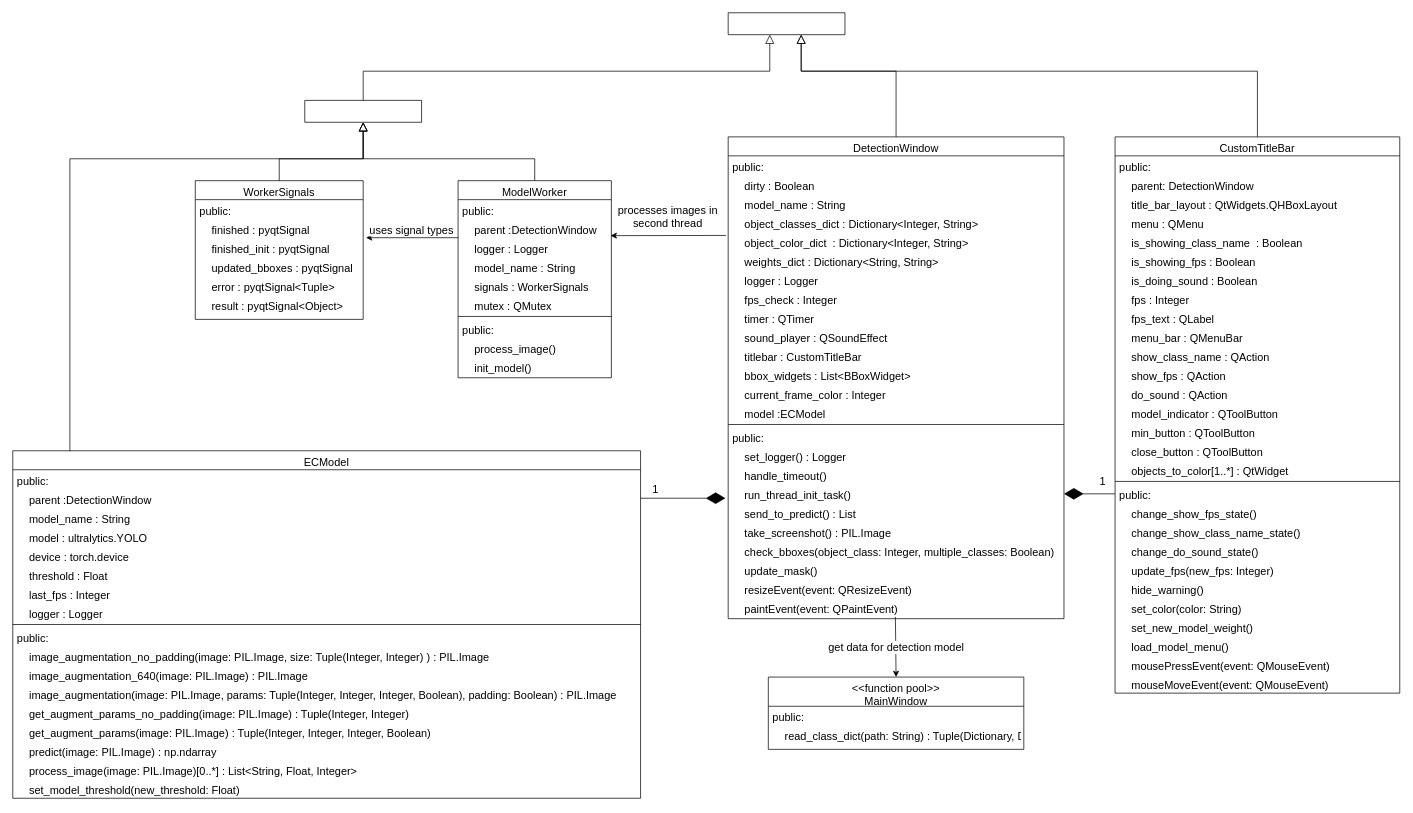
This 1413x813 diagram has some shape labels left out. The shapes that lost their labels are listed below. From the top down, each one's centre as x and y in pixels, then its label:
At (x=786, y=23): "QWidget".
At (x=363, y=111): "QObject".
